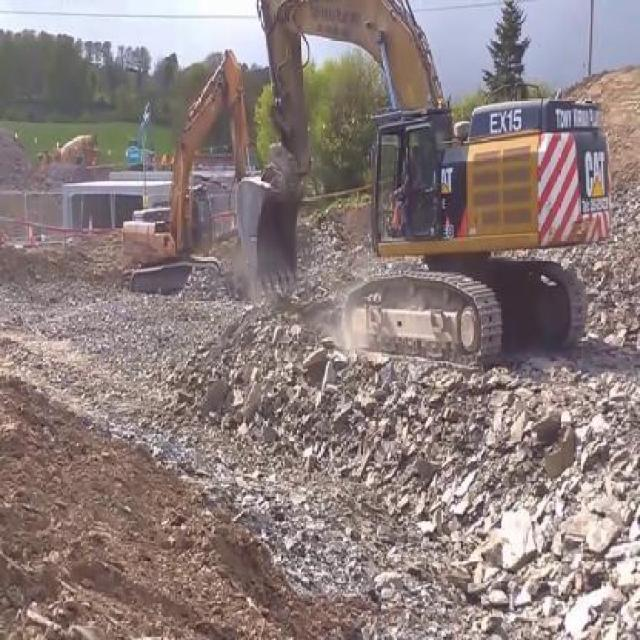excavator: (247, 0, 616, 382), (122, 48, 247, 314), (123, 96, 159, 176)
